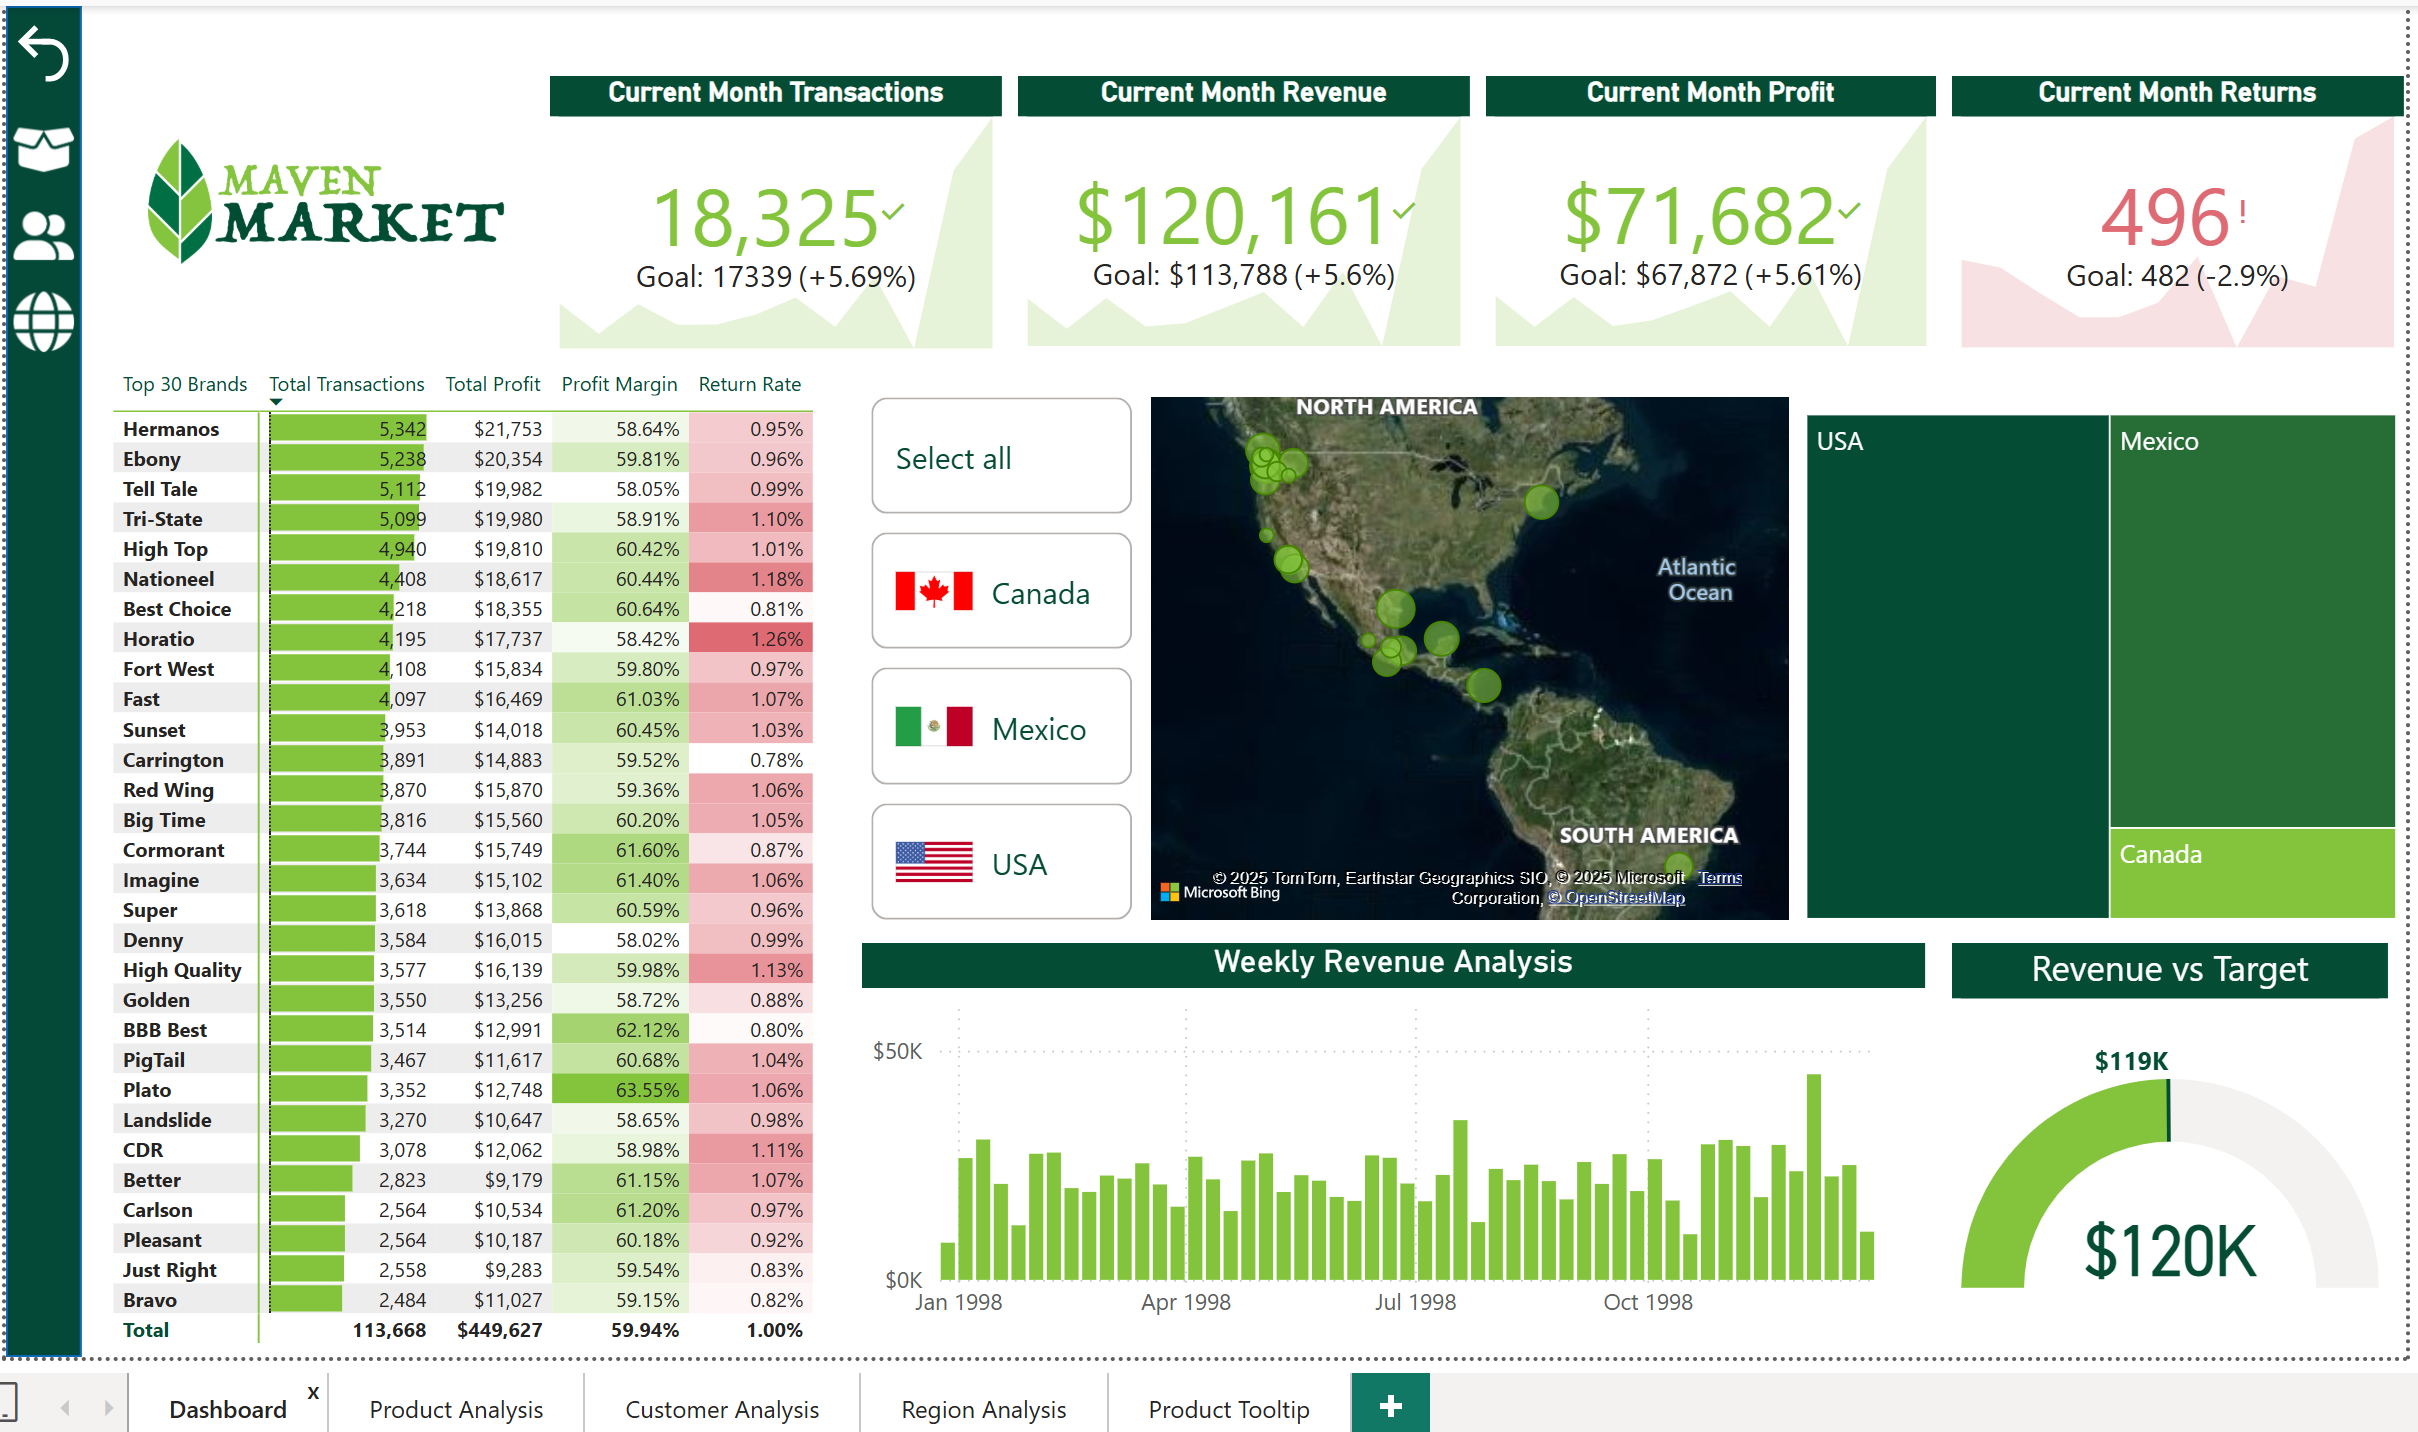

What the dashboard file says about the page in this screenshot:
{"tool":"powerbi","page":{"name":"Dashboard","canvas":[1280,720],"ordinal":0},"visuals":[{"type":"image","box":[64.6,39.5,209.6,129.2],"z":0},{"type":"kpi","title":"Current Month Revenue","fields":{"TrendLine":["Calendar.Start of Month"],"Indicator":["Measure Table.Total Revenue"],"Goal":["Measure Table.Last month Revenue"]},"box":[539.8,36.9,241.2,149],"z":1000},{"type":"kpi","title":"Current Month Returns","fields":{"TrendLine":["Calendar.Start of Month"],"Indicator":["Measure Table.Total Returns"],"Goal":["Measure Table.Last month Returns"]},"box":[1038,36.9,240.8,149.8],"z":2000},{"type":"kpi","title":"Current Month Profit","fields":{"TrendLine":["Calendar.Start of Month"],"Indicator":["Measure Table.Total Profit"],"Goal":["Measure Table.Last Month Profit"]},"box":[789.5,36.9,239.9,149],"z":3000},{"type":"pivotTable","fields":{"Rows":["Products.product_brand"],"Values":["Measure Table.Total Transactions","Measure Table.Total Profit","Measure Table.Profit Margin","Measure Table.Return Rate"]},"box":[51.8,187.8,396.3,532.2],"z":4000},{"type":"map","fields":{"Size":["Measure Table.Total Transactions"],"Category":["Stores.store_city"]},"box":[606,203.9,350.2,288],"z":5000},{"type":"advancedSlicerVisual","fields":{"Values":["Country_Flag.Country"]},"box":[456.2,203.9,149.8,288],"z":6000},{"type":"treemap","fields":{"Values":["Measure Table.Total Transactions"],"Group":["Country_Flag.Country","Stores.store_state","Stores.store_city"]},"box":[956.2,213.1,323.7,277.6],"z":7000},{"type":"clusteredColumnChart","title":"Weekly Revenue Analysis","fields":{"Y":["Measure Table.Total Revenue"],"Category":["Calendar.Start of Week"]},"box":[456.2,498.8,566.8,209.7],"z":8000},{"type":"gauge","title":"Revenue vs Target","fields":{"Y":["Measure Table.Total Revenue"],"TargetValue":["Measure Table.Revenue Target"]},"box":[1038,498.8,232.7,203.9],"z":9000},{"type":"shape","box":[0,0,40.3,720],"z":10000},{"type":"kpi","title":"Current Month Transactions","fields":{"Indicator":["Measure Table.Total Transactions"],"TrendLine":["Calendar.Start of Month"],"Goal":["Measure Table.Last month Transactions"]},"box":[290,36.9,241.2,150.3],"z":11000},{"type":"actionButton","box":[0,0,40.3,50.7],"z":12000},{"type":"actionButton","box":[0,102.5,40.3,40.3],"z":13000},{"type":"actionButton","box":[0,148.6,40.3,40.3],"z":14000},{"type":"actionButton","box":[0,56.4,40.3,40.3],"z":15000}]}

Visuals, with their boxes on the page's 1280x720 design canvas (x1, y1, x2, y2). These are canvas units, not pixel positions in the 2418x1432 screenshot, which may show the page scaled, cropped or inside an application window:
image: rect(65, 40, 274, 169)
"Current Month Revenue" kpi: rect(540, 37, 781, 186)
"Current Month Returns" kpi: rect(1038, 37, 1279, 187)
"Current Month Profit" kpi: rect(790, 37, 1029, 186)
pivotTable - Products.product_brand x Measure Table.Total Transactions: rect(52, 188, 448, 720)
map - Measure Table.Total Transactions x Stores.store_city: rect(606, 204, 956, 492)
advancedSlicerVisual - Country_Flag.Country: rect(456, 204, 606, 492)
treemap - Measure Table.Total Transactions x Country_Flag.Country: rect(956, 213, 1280, 491)
"Weekly Revenue Analysis" clusteredColumnChart: rect(456, 499, 1023, 708)
"Revenue vs Target" gauge: rect(1038, 499, 1271, 703)
shape: rect(0, 0, 40, 720)
"Current Month Transactions" kpi: rect(290, 37, 531, 187)
actionButton: rect(0, 0, 40, 51)
actionButton: rect(0, 102, 40, 143)
actionButton: rect(0, 149, 40, 189)
actionButton: rect(0, 56, 40, 97)
